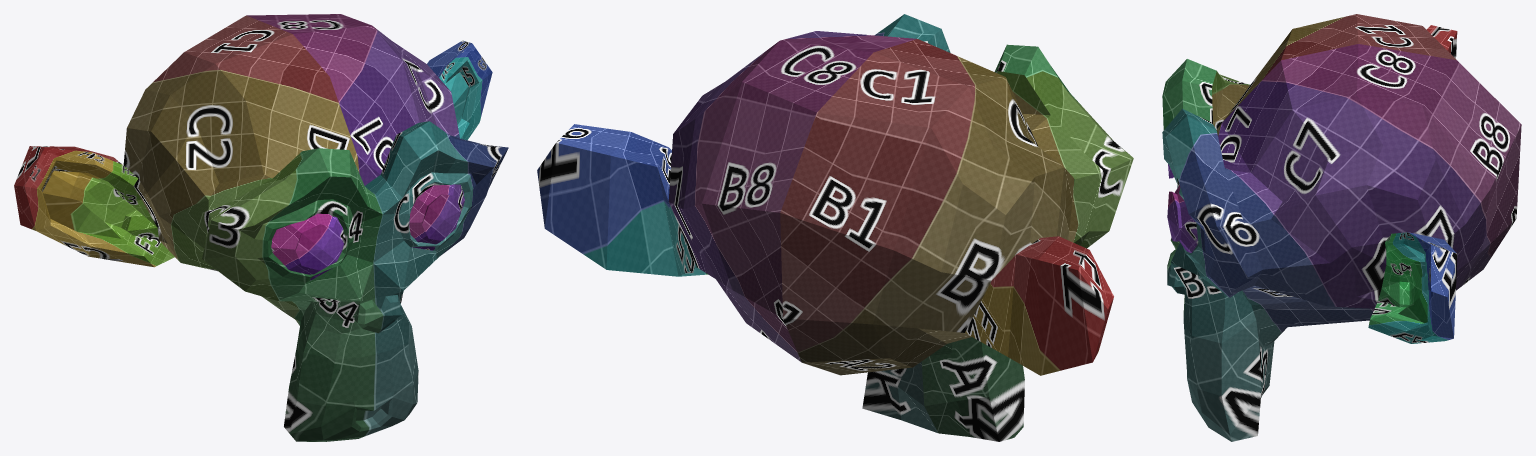
Rendered from kitskeys.glb.
3 views of the same model, side by side, from view 1: azimuth 30°, elevation 25°; view 2: azimuth 150°, elevation 25°; view 3: azimuth 270°, elevation 25° (orthographic). The views are drawn at different scales.
Parts seen in each view (by area): view 1: Suzanne; view 2: Suzanne; view 3: Suzanne.
Boxes of the visible parts, bbox=[...] form: Suzanne: bbox=[14, 14, 508, 441]; Suzanne: bbox=[537, 14, 1133, 441]; Suzanne: bbox=[1162, 14, 1521, 441].
Size of the model in its own units: 2.73 by 1.97 by 1.7.
Materials: 1 (1 with a texture image).
